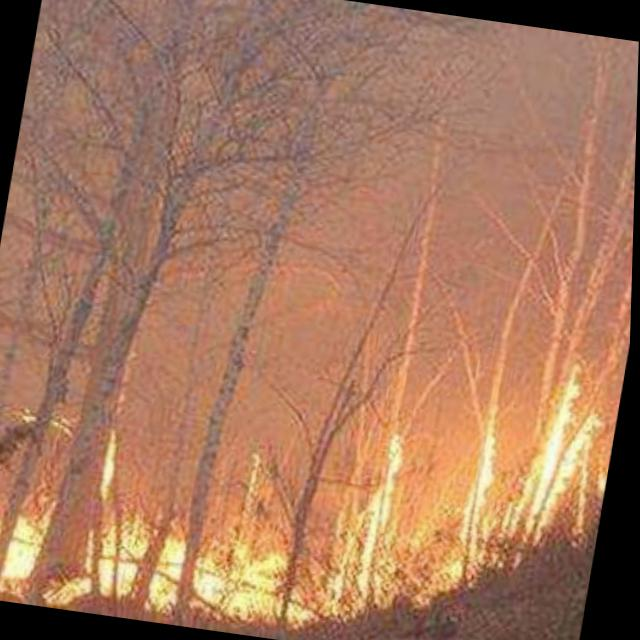fire: (0, 276, 621, 639)
